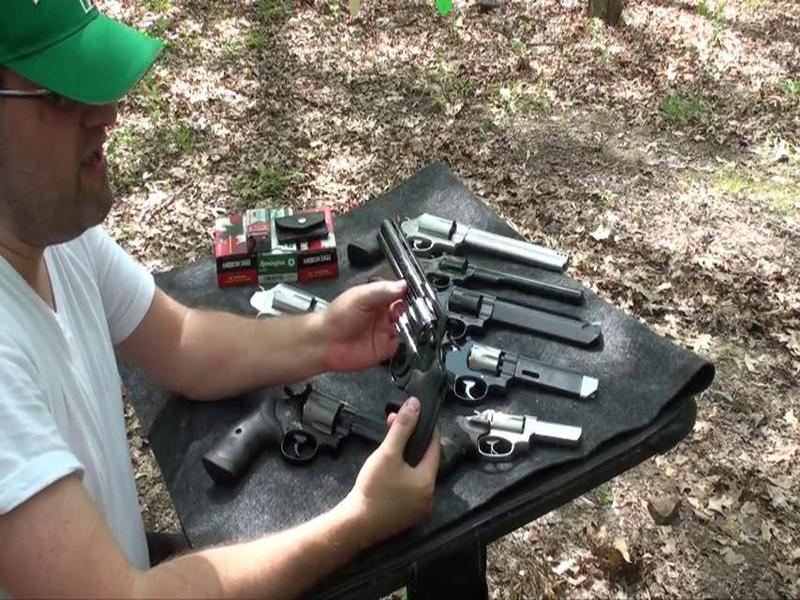Revolver: (355, 226, 451, 441)
